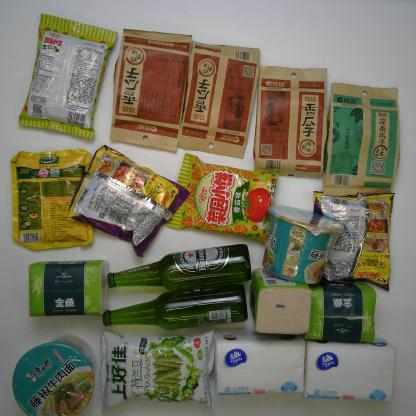Alcohol: (105, 245, 260, 289), (101, 291, 246, 332)
Dried Food: (179, 36, 261, 161), (322, 78, 401, 198), (116, 27, 191, 153), (253, 61, 328, 179)
Instant Noodles: (74, 137, 186, 256), (312, 186, 400, 292), (258, 192, 344, 284), (12, 343, 93, 416)
Puffed Food: (17, 10, 115, 141), (173, 142, 275, 244), (89, 331, 218, 410)
Seasoner: (7, 150, 97, 252)
Tissue: (216, 324, 305, 400), (302, 338, 394, 402), (309, 266, 384, 344), (25, 260, 106, 319), (250, 274, 309, 334)
